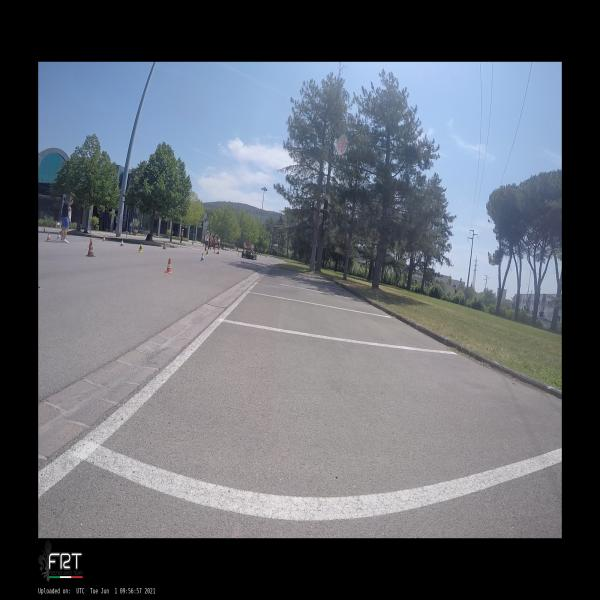blue_cone: (200, 252, 205, 262)
large_orange_cone: (86, 242, 96, 257), (162, 242, 167, 249)
orange_cone: (164, 258, 173, 274), (45, 231, 51, 241), (87, 239, 92, 247), (120, 239, 125, 246), (102, 236, 106, 241), (57, 233, 60, 239)
yellow_cone: (138, 244, 143, 252), (205, 250, 208, 256)
